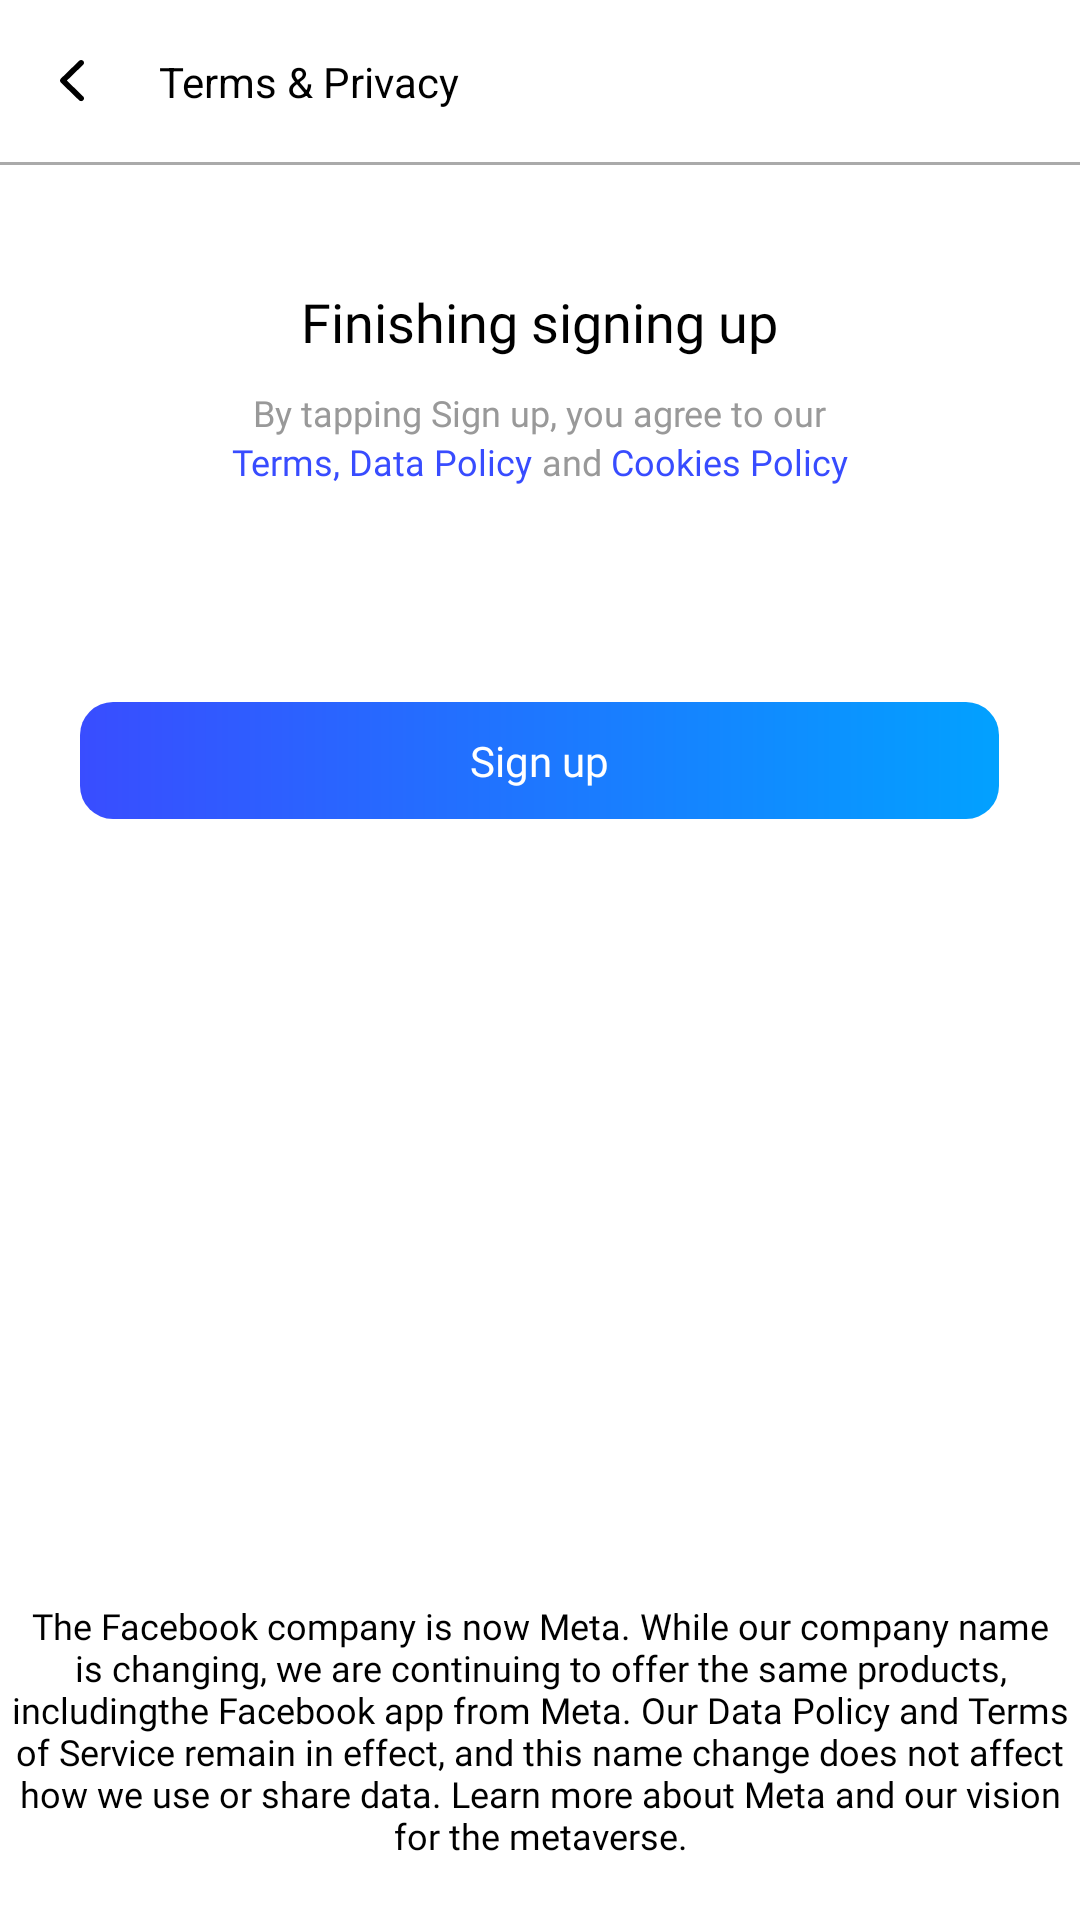

Locate icon controls on the screen. Image size 1080px×1920px, boxes as [x1, y1, x2, y2].
back create account: [60, 60, 84, 101]
